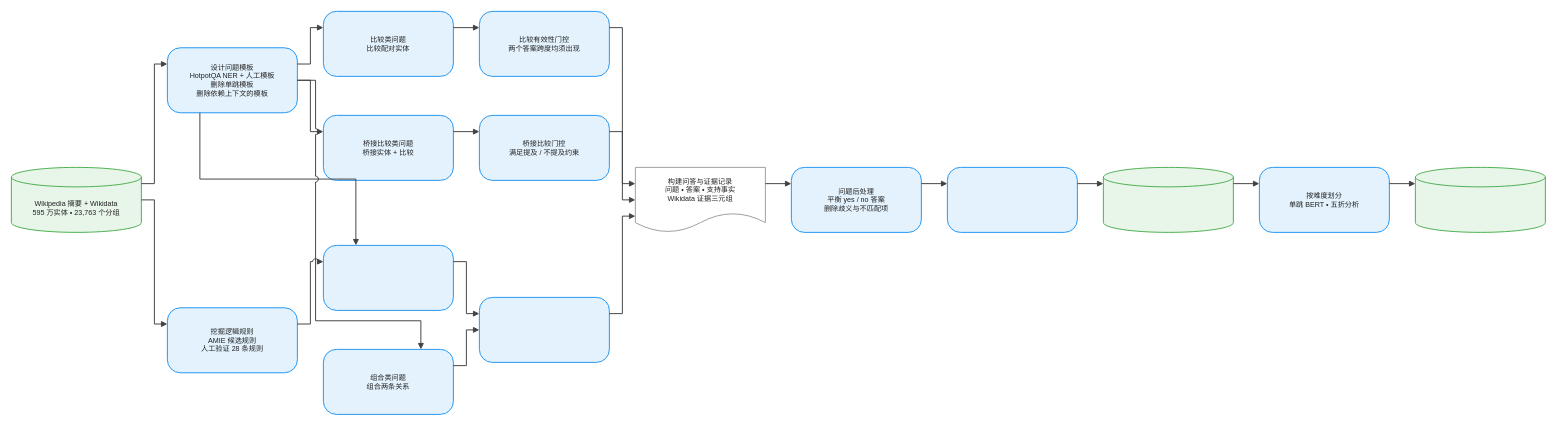
Image size: 1557x426. Some labels were removed from this diagram. The shapes that lost their labels are listed below. From the top down, each one's box as (x1, y1, x2, y2) in pixels, then its label:
(947, 167, 1078, 233): 检索 TF-IDF 干扰段 检索前 50，保留 8 或 6 段 打乱组成 10 个段落
(1103, 167, 1234, 233): 2WikiMultihopQA 192,606 道问题 四类问题
(1415, 167, 1546, 233): 发布划分 训练 154,878 + 困难 12,576 开发 12,576 • 测试 12,576
(323, 245, 454, 311): 推断类问题 应用已验证关系链
(479, 297, 610, 363): 两跳有效性门控 中间实体与答案路径均有效
